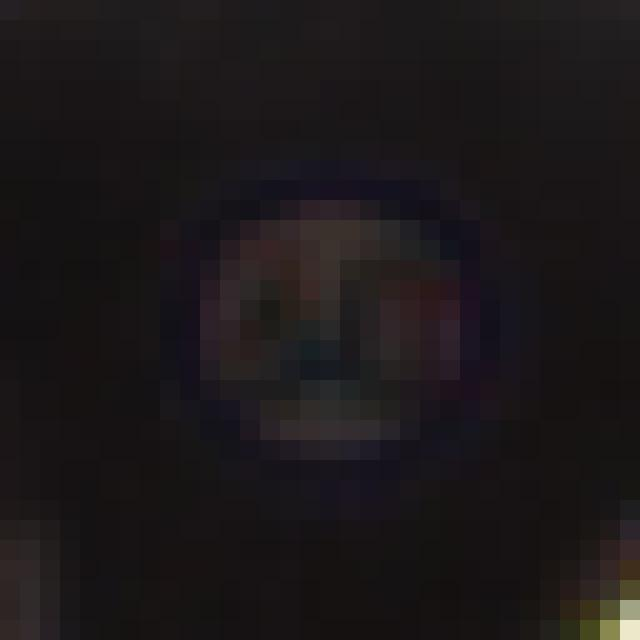SPEED-LIMIT-60: (146, 152, 527, 503)
